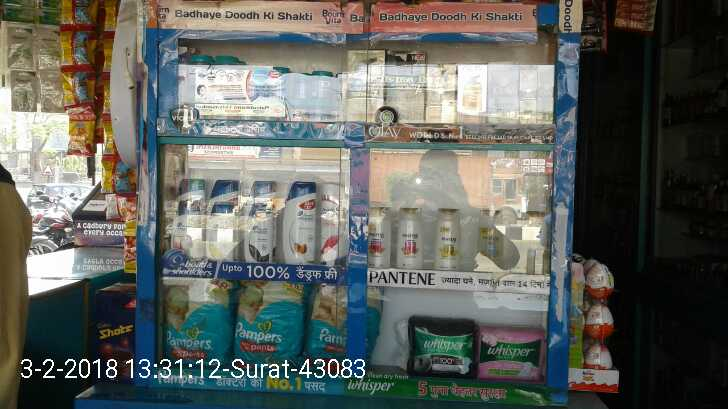beauty: (278, 180, 319, 261), (390, 207, 428, 274), (434, 208, 460, 269)
pharmacy: (156, 279, 227, 369), (234, 280, 304, 367), (303, 285, 356, 369), (408, 314, 473, 373), (477, 325, 535, 378)
